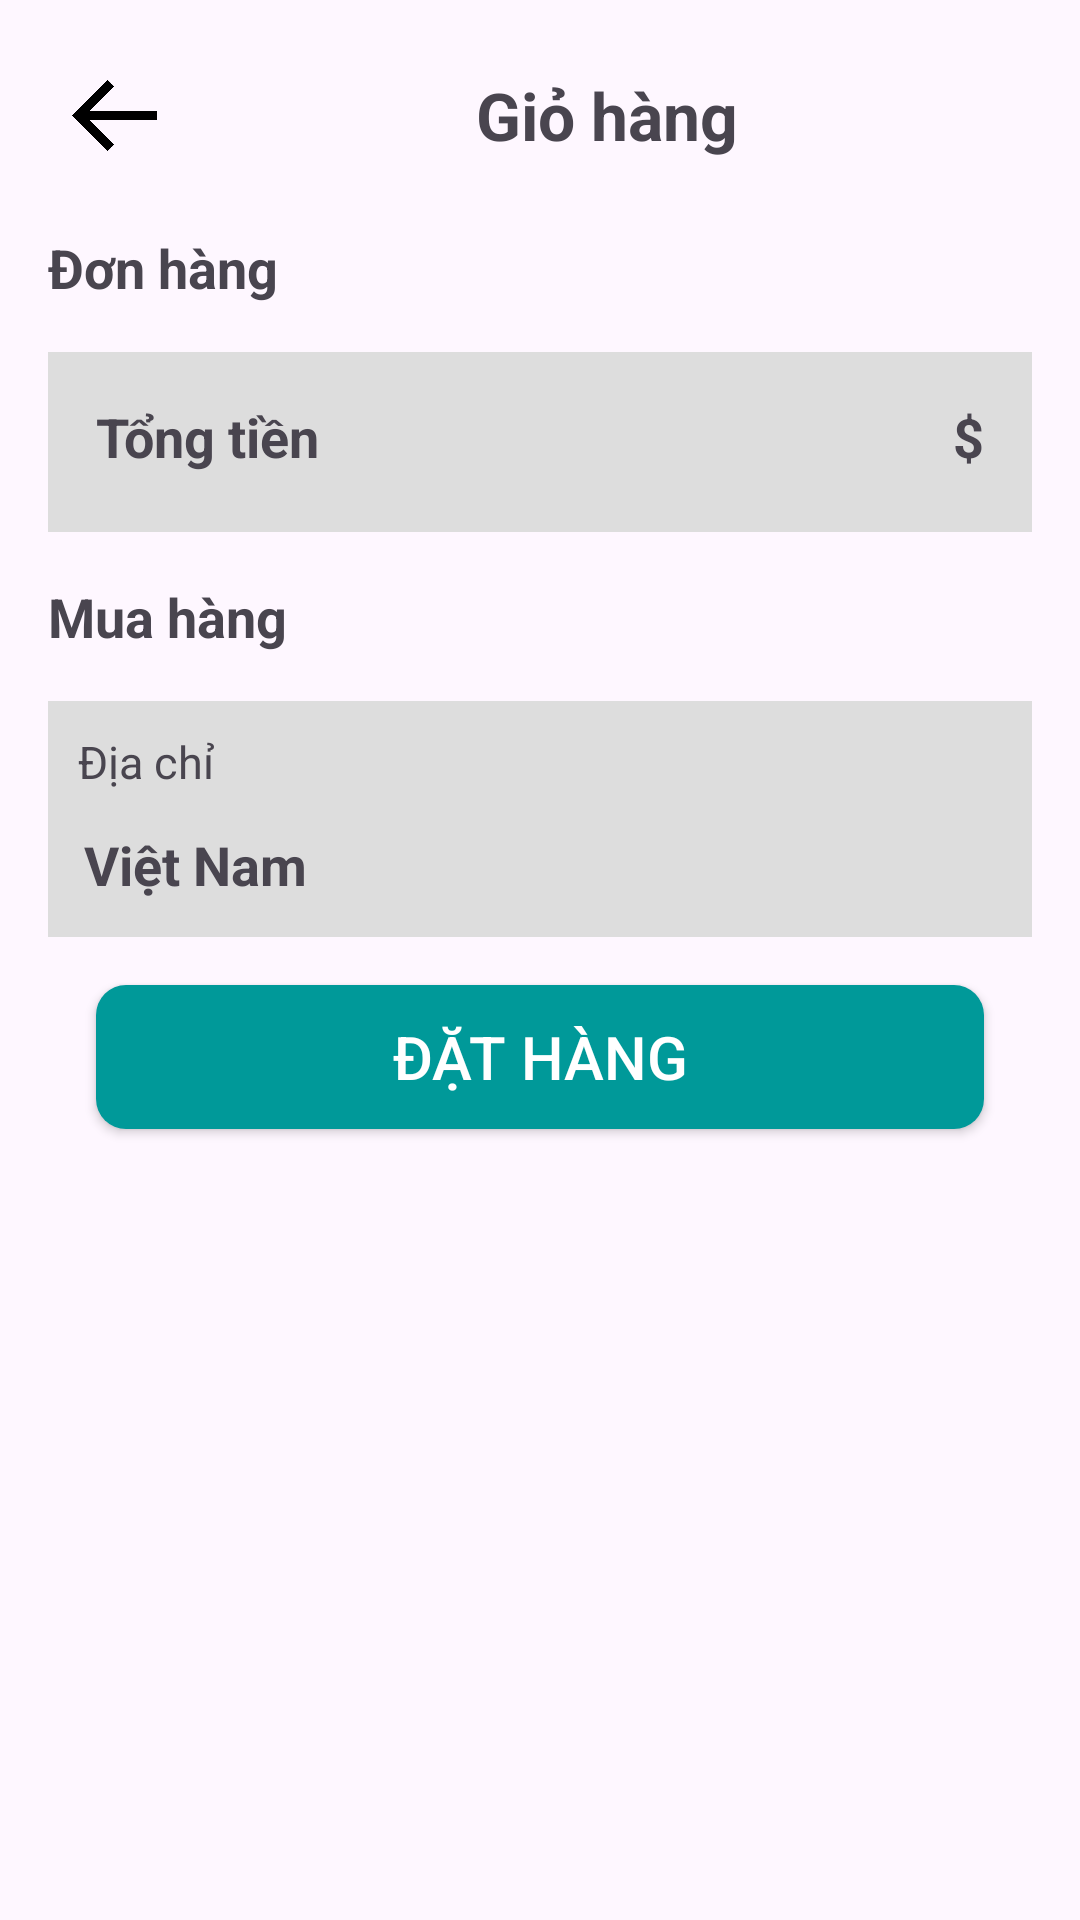

Screen size 1080x1920. Icon name, then its center in pixels as point (x, y):
back arrow: point (114, 115)
